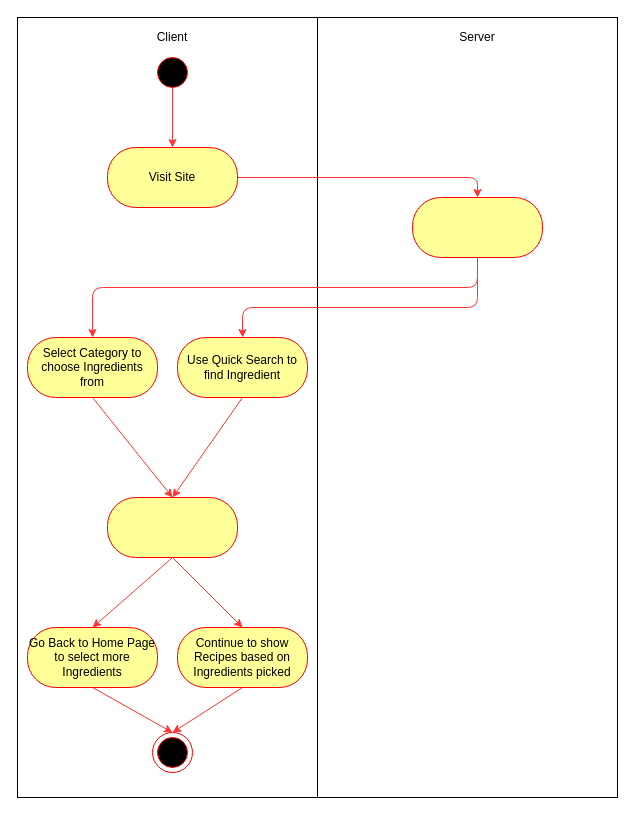
Image size: 635x816. Some labels were removed from this diagram. The centre of each missing label's shape, as x and y in pixels:
"Add Ingredient to Pot" goes at (x=172, y=527).
"Load Database of Ingredients" goes at (x=477, y=227).
